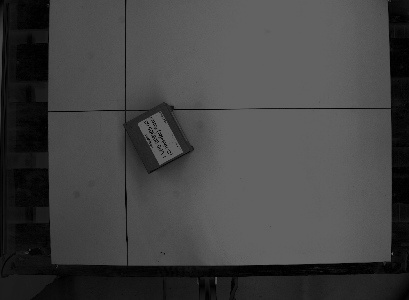b5: (119, 98, 197, 176)
